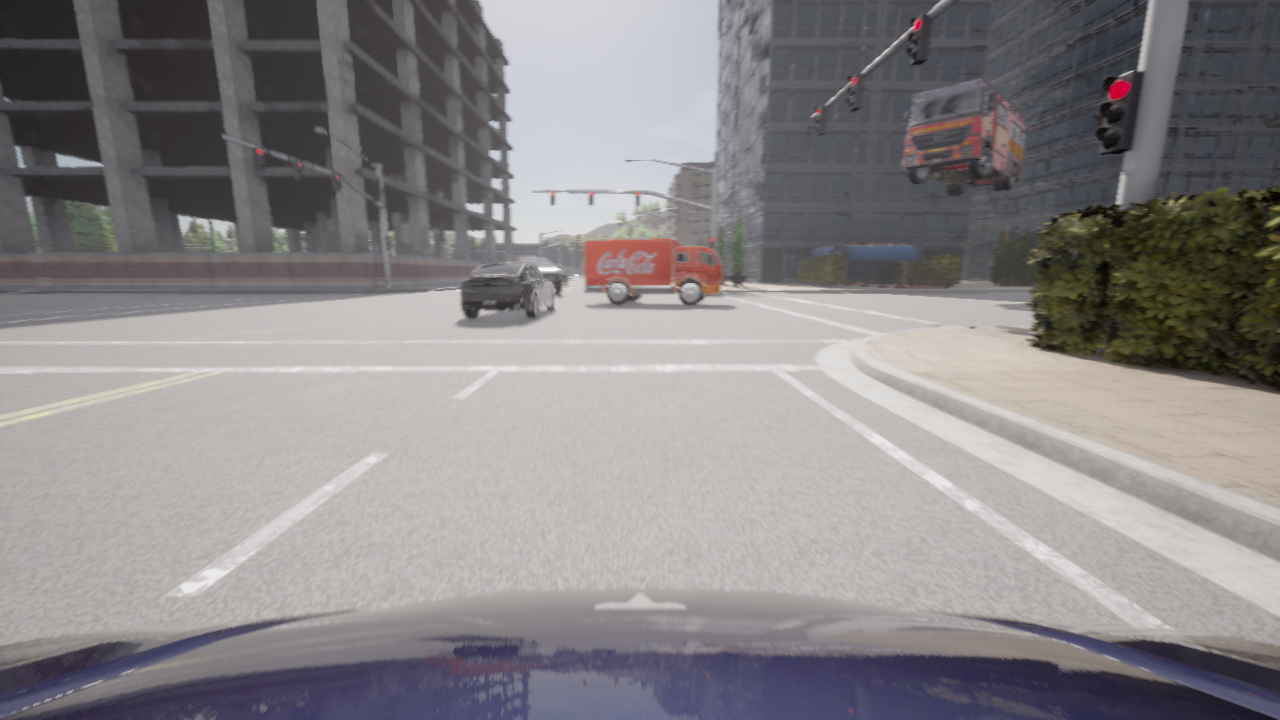cyclist: (0, 588, 1279, 719), (902, 78, 1025, 196), (582, 238, 723, 306), (460, 262, 554, 319), (510, 257, 562, 295), (554, 264, 567, 285)
